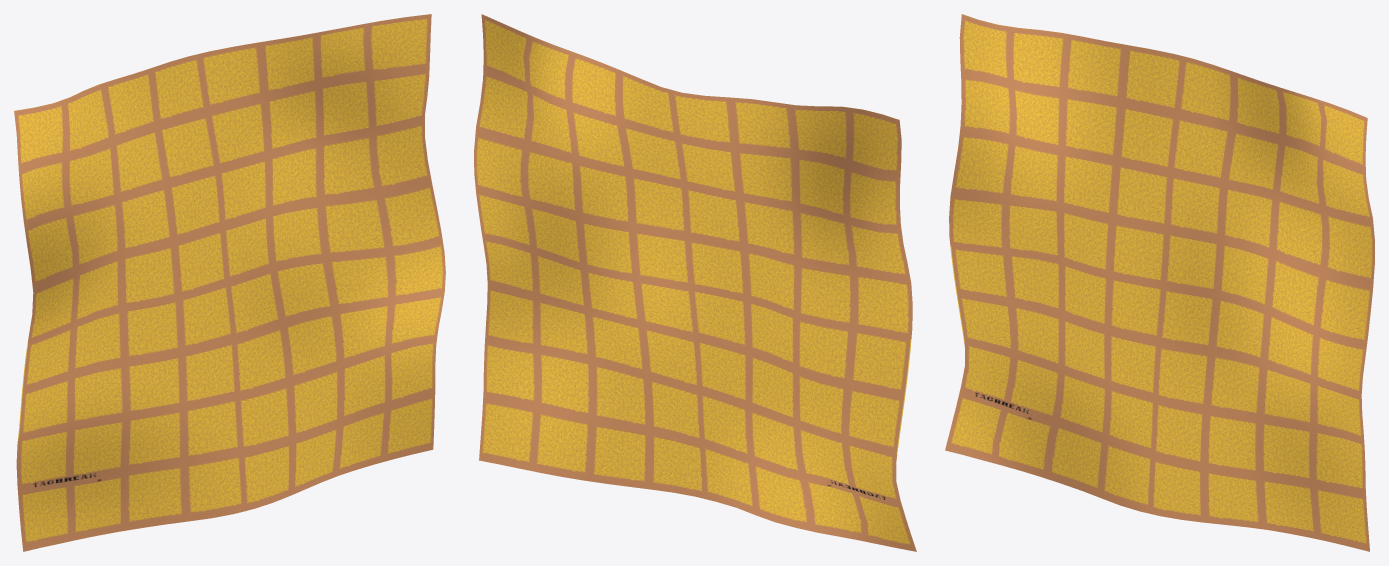
Rendered from golden.glb.
3 renders of one model, left to right at view 1: azimuth 30°, elevation 25°; view 2: azimuth 150°, elevation 25°; view 3: azimuth 330°, elevation 25°, orthographic. The views are drawn at different scales.
Parts seen in each view (by area): view 1: Plane; view 2: Plane; view 3: Plane.
Boxes of the visible parts, <box> form: Plane: <box>14,14,445,551</box>; Plane: <box>474,14,916,551</box>; Plane: <box>945,14,1374,551</box>.
Bounding box in the file's own units: 2.02 × 2 × 0.3284.
Materials: 1 (1 with a texture image).
